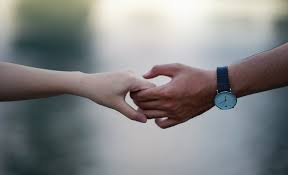hand: (142, 45, 222, 132), (76, 57, 146, 130)
